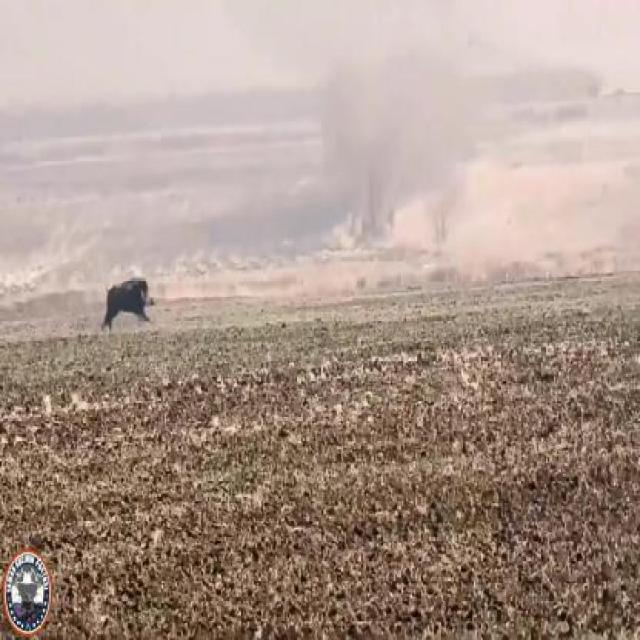Boar: (95, 261, 163, 337)
